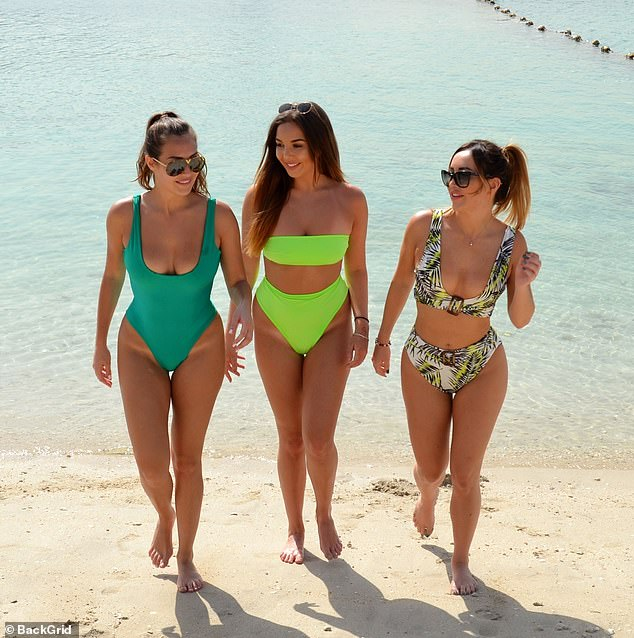Person: (84, 108, 265, 603), (371, 130, 554, 610), (225, 85, 367, 571)
